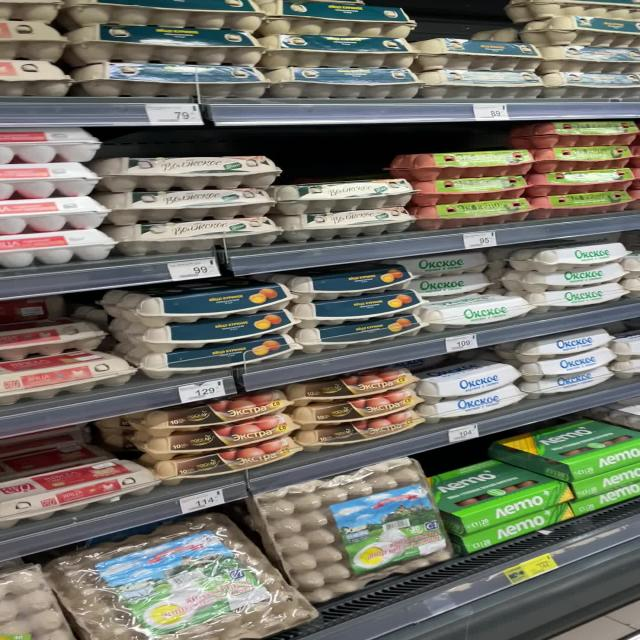egg box: (40, 516, 318, 638), (251, 458, 453, 605), (0, 441, 164, 530), (422, 462, 574, 532), (123, 327, 294, 382), (59, 24, 263, 70), (102, 277, 296, 324), (111, 308, 299, 352), (128, 388, 284, 438), (132, 410, 288, 460), (100, 151, 282, 193), (498, 424, 638, 478), (0, 350, 137, 403), (106, 219, 284, 257), (289, 308, 427, 357), (67, 68, 270, 99), (161, 431, 294, 478), (97, 188, 275, 223), (289, 285, 424, 330), (284, 258, 414, 304), (299, 406, 426, 452), (284, 202, 414, 246), (284, 364, 416, 406), (403, 192, 540, 232), (294, 385, 422, 427), (268, 63, 419, 98), (280, 173, 404, 215), (391, 146, 526, 181), (261, 36, 414, 66), (426, 290, 526, 334), (505, 261, 627, 296), (417, 356, 514, 398), (412, 38, 542, 69), (507, 244, 628, 277), (408, 172, 530, 204), (519, 344, 621, 382), (422, 386, 524, 422), (420, 70, 544, 99), (510, 116, 632, 144), (528, 140, 630, 173), (507, 327, 612, 359), (533, 280, 628, 315), (526, 364, 614, 400), (536, 187, 632, 218), (528, 166, 634, 194)
